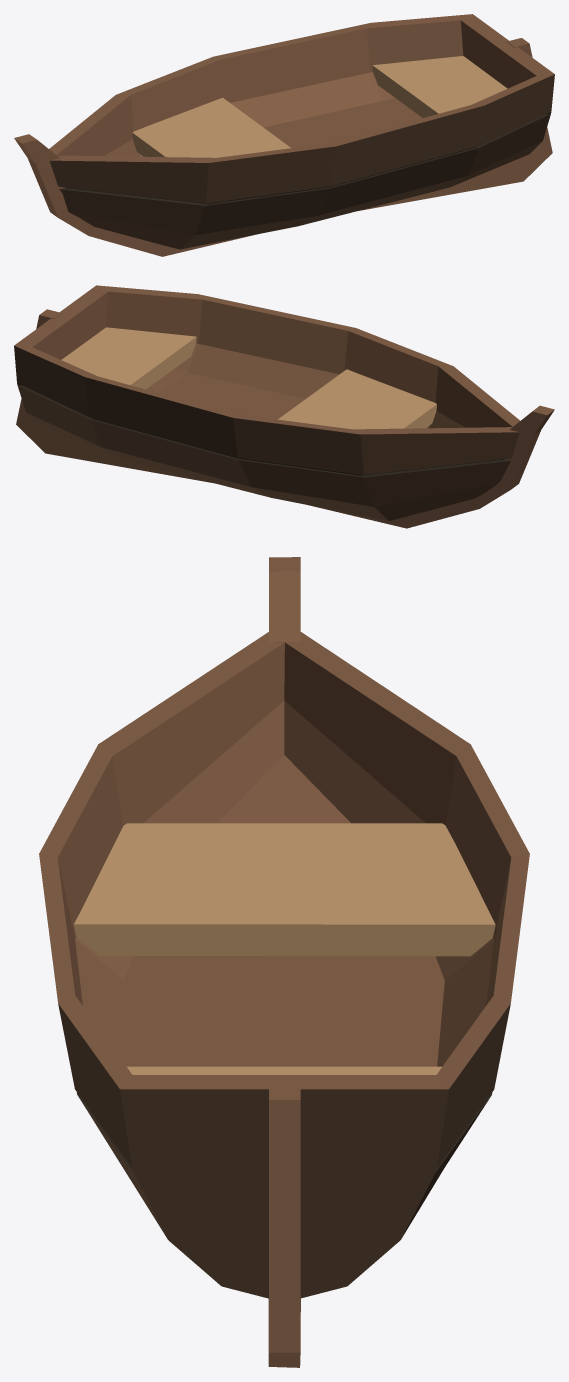
The model's file is Barque.fbx.
3 renders of one model, top to bottom at view 1: azimuth 30°, elevation 25°; view 2: azimuth 150°, elevation 25°; view 3: azimuth 270°, elevation 25°, orthographic. The views are drawn at different scales.
Parts seen in each view (by area): view 1: Barque; view 2: Barque; view 3: Barque.
Part boxes in pixels (<box>): Barque: <box>14,14,554,256</box>; Barque: <box>14,285,554,528</box>; Barque: <box>39,557,529,1367</box>.
Size of the model in its own units: 209 by 60.57 by 83.77.
